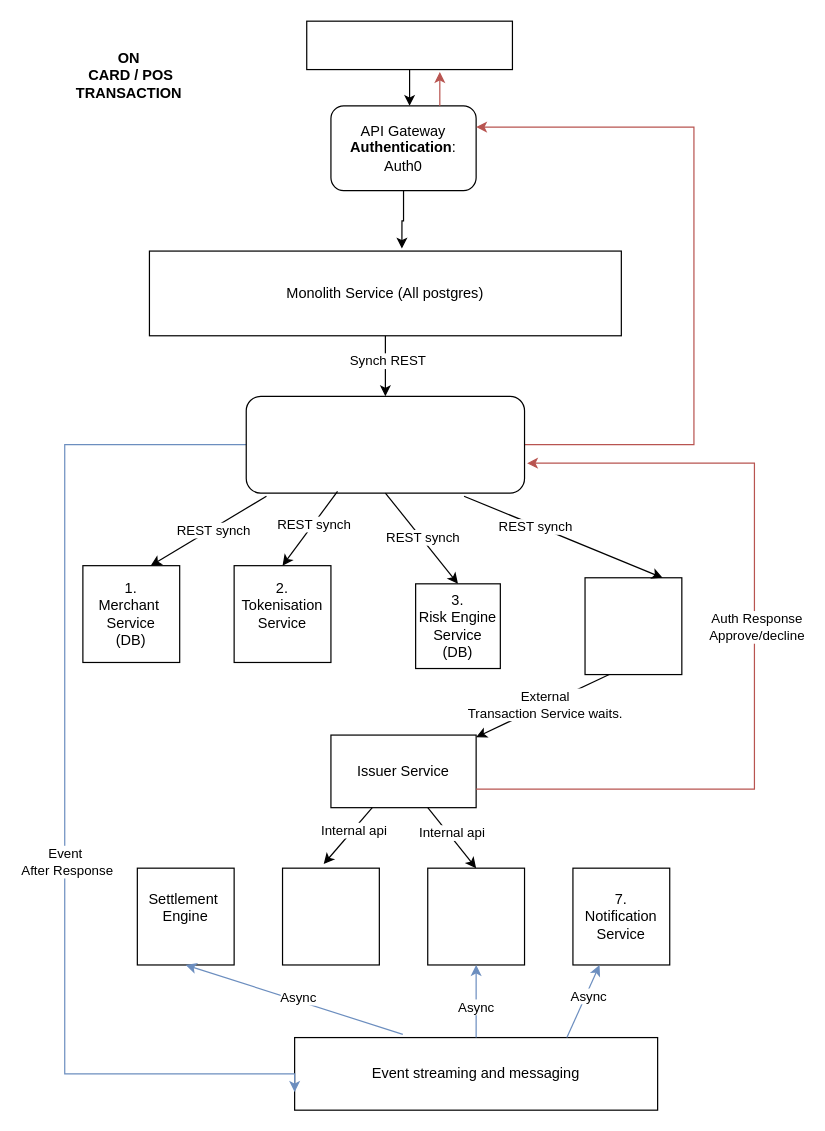
This 825x1131 diagram has some shape labels left out. Here are the shapes that lost their labels. From the top down, the centre of each, then its label:
At (x=409, y=45): "client".
At (x=385, y=444): "Transaction Service Clearing & Settlement".
At (x=633, y=626): "4. Acquirer Bank Service".
At (x=330, y=916): "5. Account Service (DB)".
At (x=476, y=916): "6. Ledger Service (DB)".
